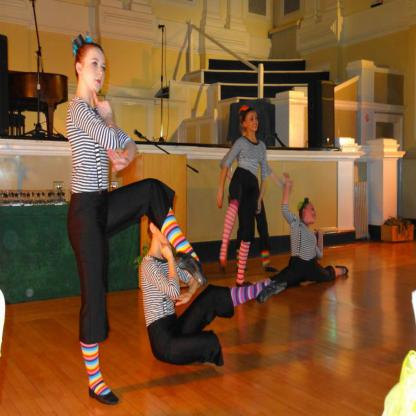face: (83, 51, 107, 94), (247, 113, 259, 132), (306, 203, 316, 223)
